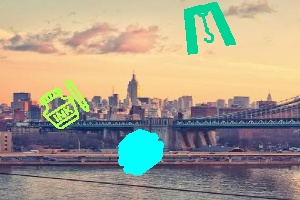墨水: (38, 81, 90, 129)
汉堡: (118, 129, 164, 175)
钩子: (183, 3, 237, 53)
